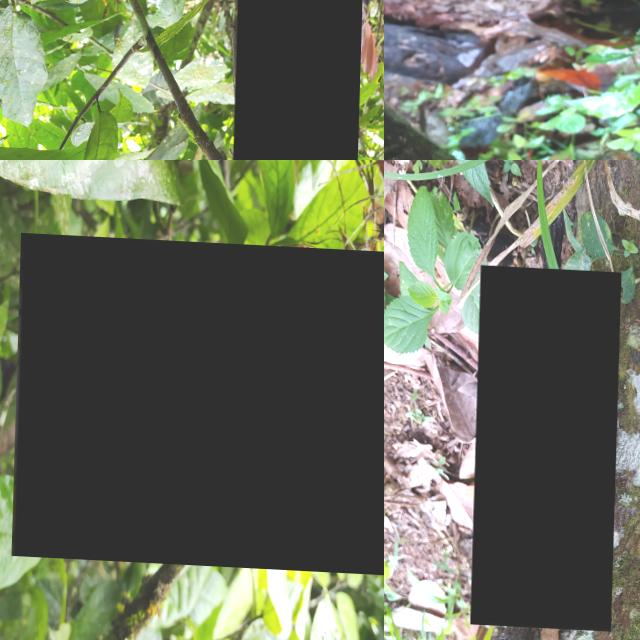Fitoftora: (234, 0, 367, 160)
Monilia: (14, 231, 384, 571), (474, 263, 622, 628)
